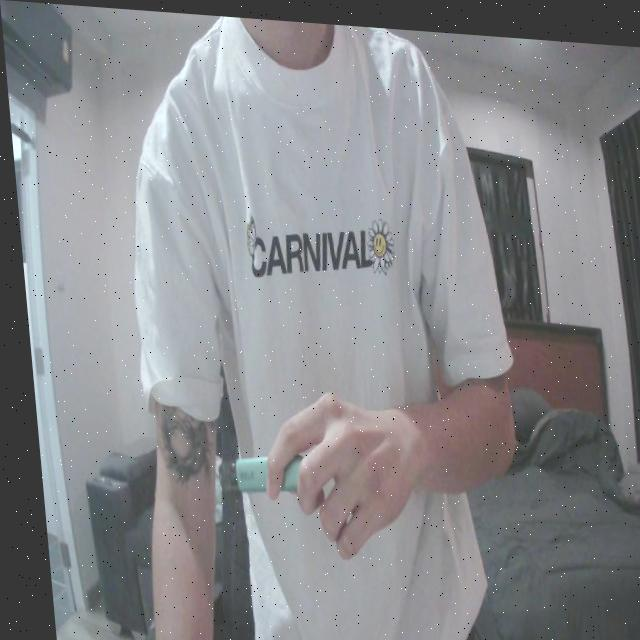vape: (207, 448, 293, 495)
